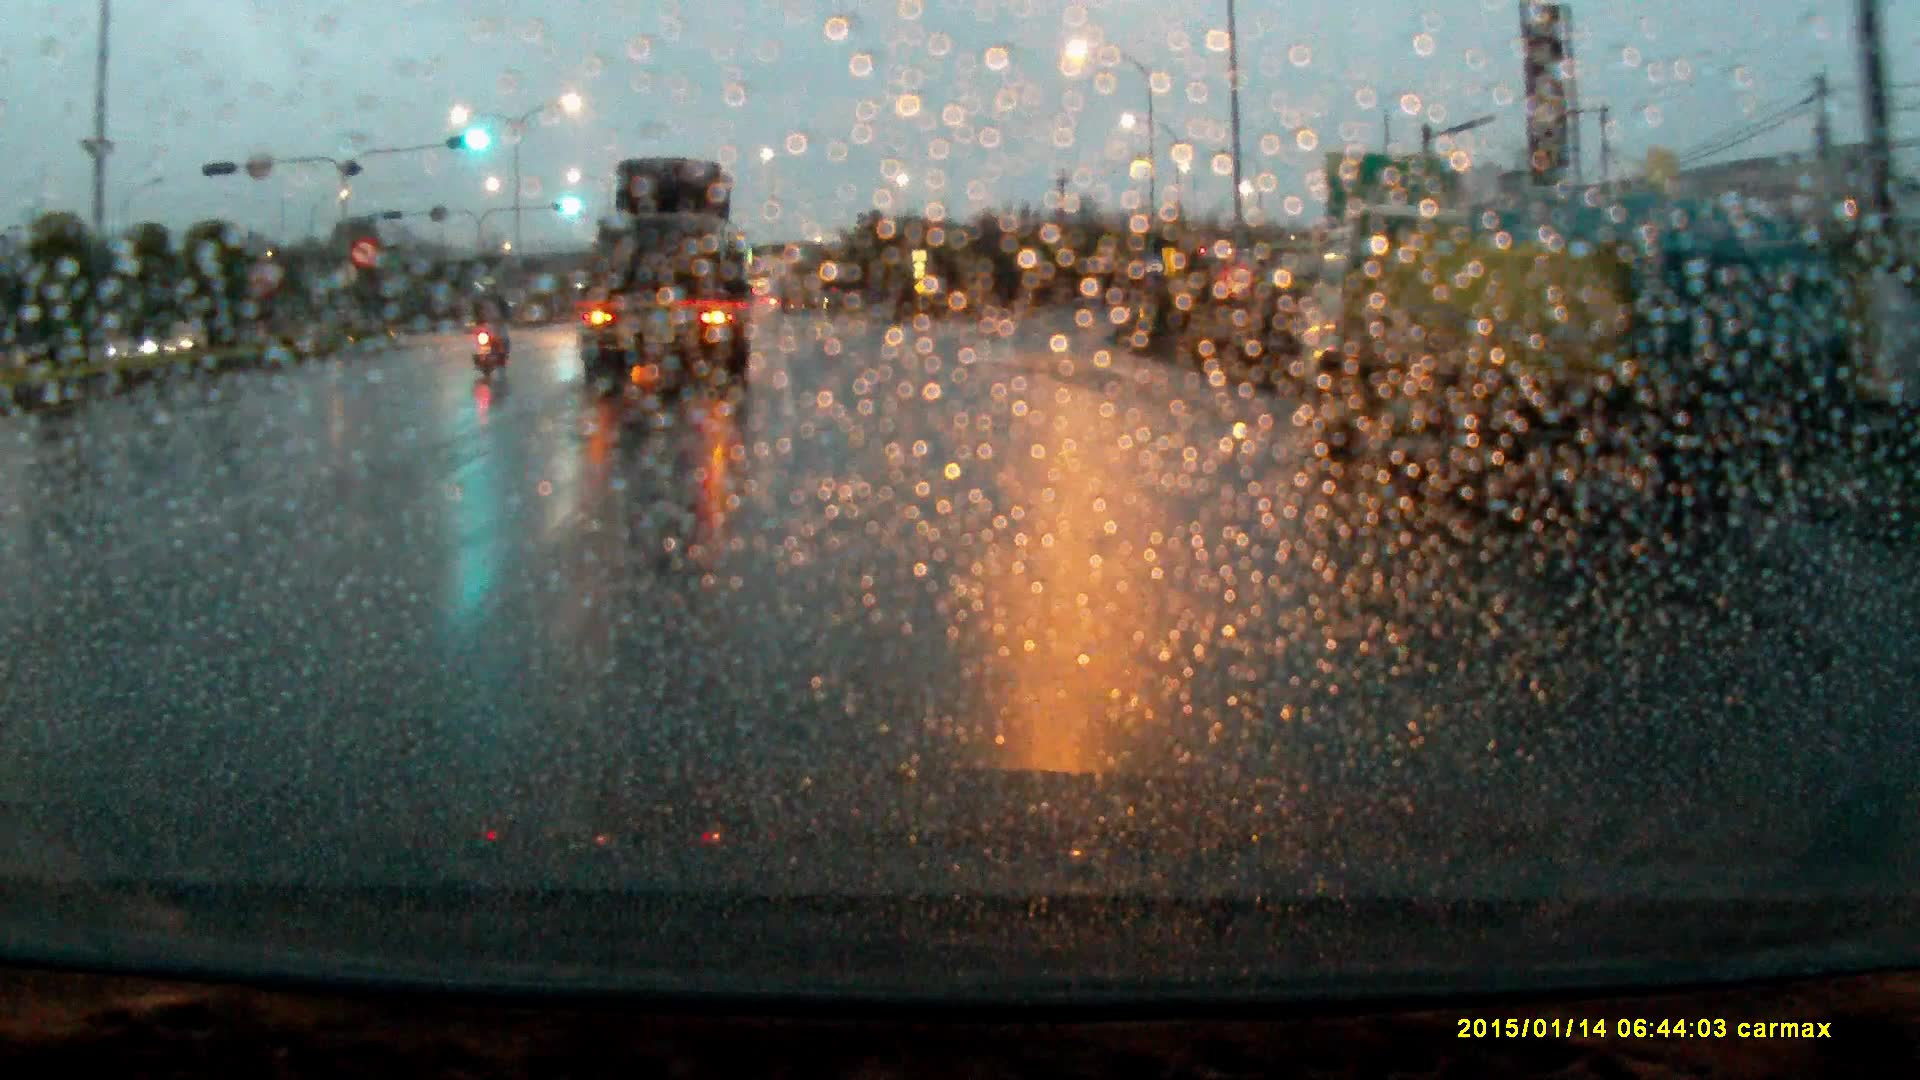rider: (467, 278, 516, 388)
vehicle: (1296, 191, 1831, 528), (574, 157, 755, 403)
